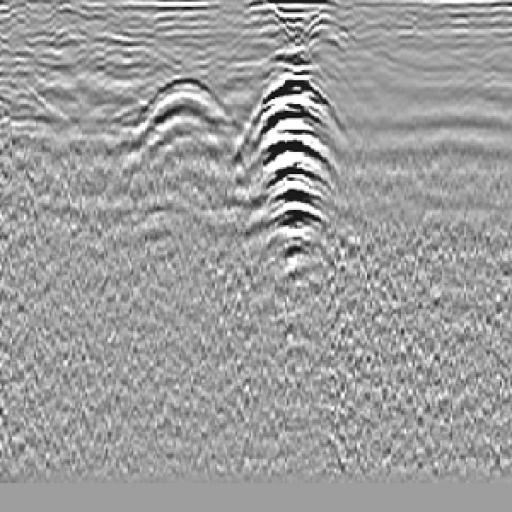metalic: (248, 27, 340, 307)
nonmetalic: (133, 62, 236, 162)
